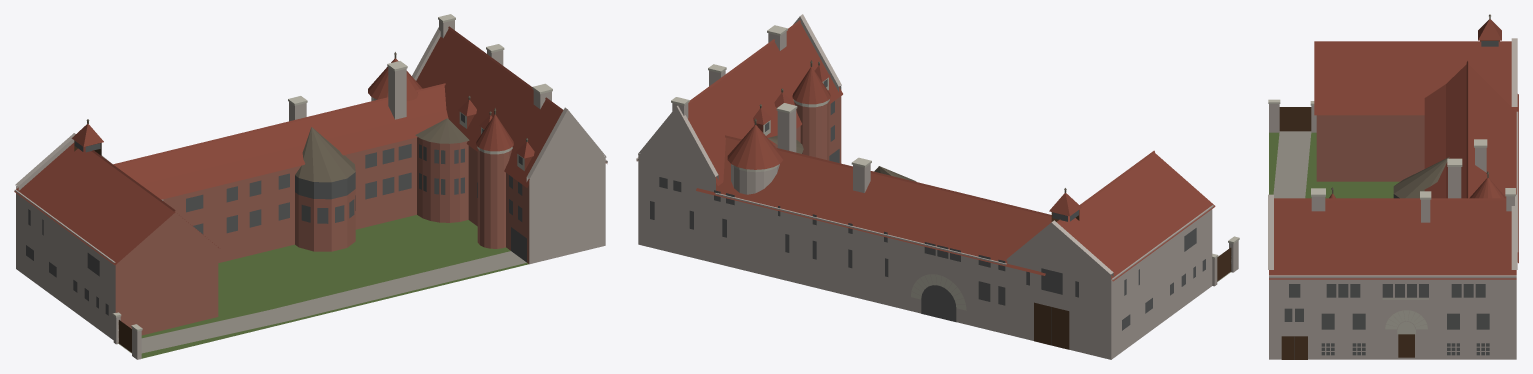
File: glessner_house__as_built_1887.glb
3 renders of one model, left to right at view 1: azimuth 30°, elevation 25°; view 2: azimuth 150°, elevation 25°; view 3: azimuth 270°, elevation 25°, orthographic.
Parts seen in each view (by area): view 1: glessner_house__as_built_1887; view 2: glessner_house__as_built_1887; view 3: glessner_house__as_built_1887.
Part boxes in pixels (x1=…): glessner_house__as_built_1887: x1=14, y1=14, x2=607, y2=359; glessner_house__as_built_1887: x1=636, y1=14, x2=1239, y2=359; glessner_house__as_built_1887: x1=1268, y1=14, x2=1518, y2=359.
Bounding box in the file's own units: 49.65 × 15.05 × 22.83.
